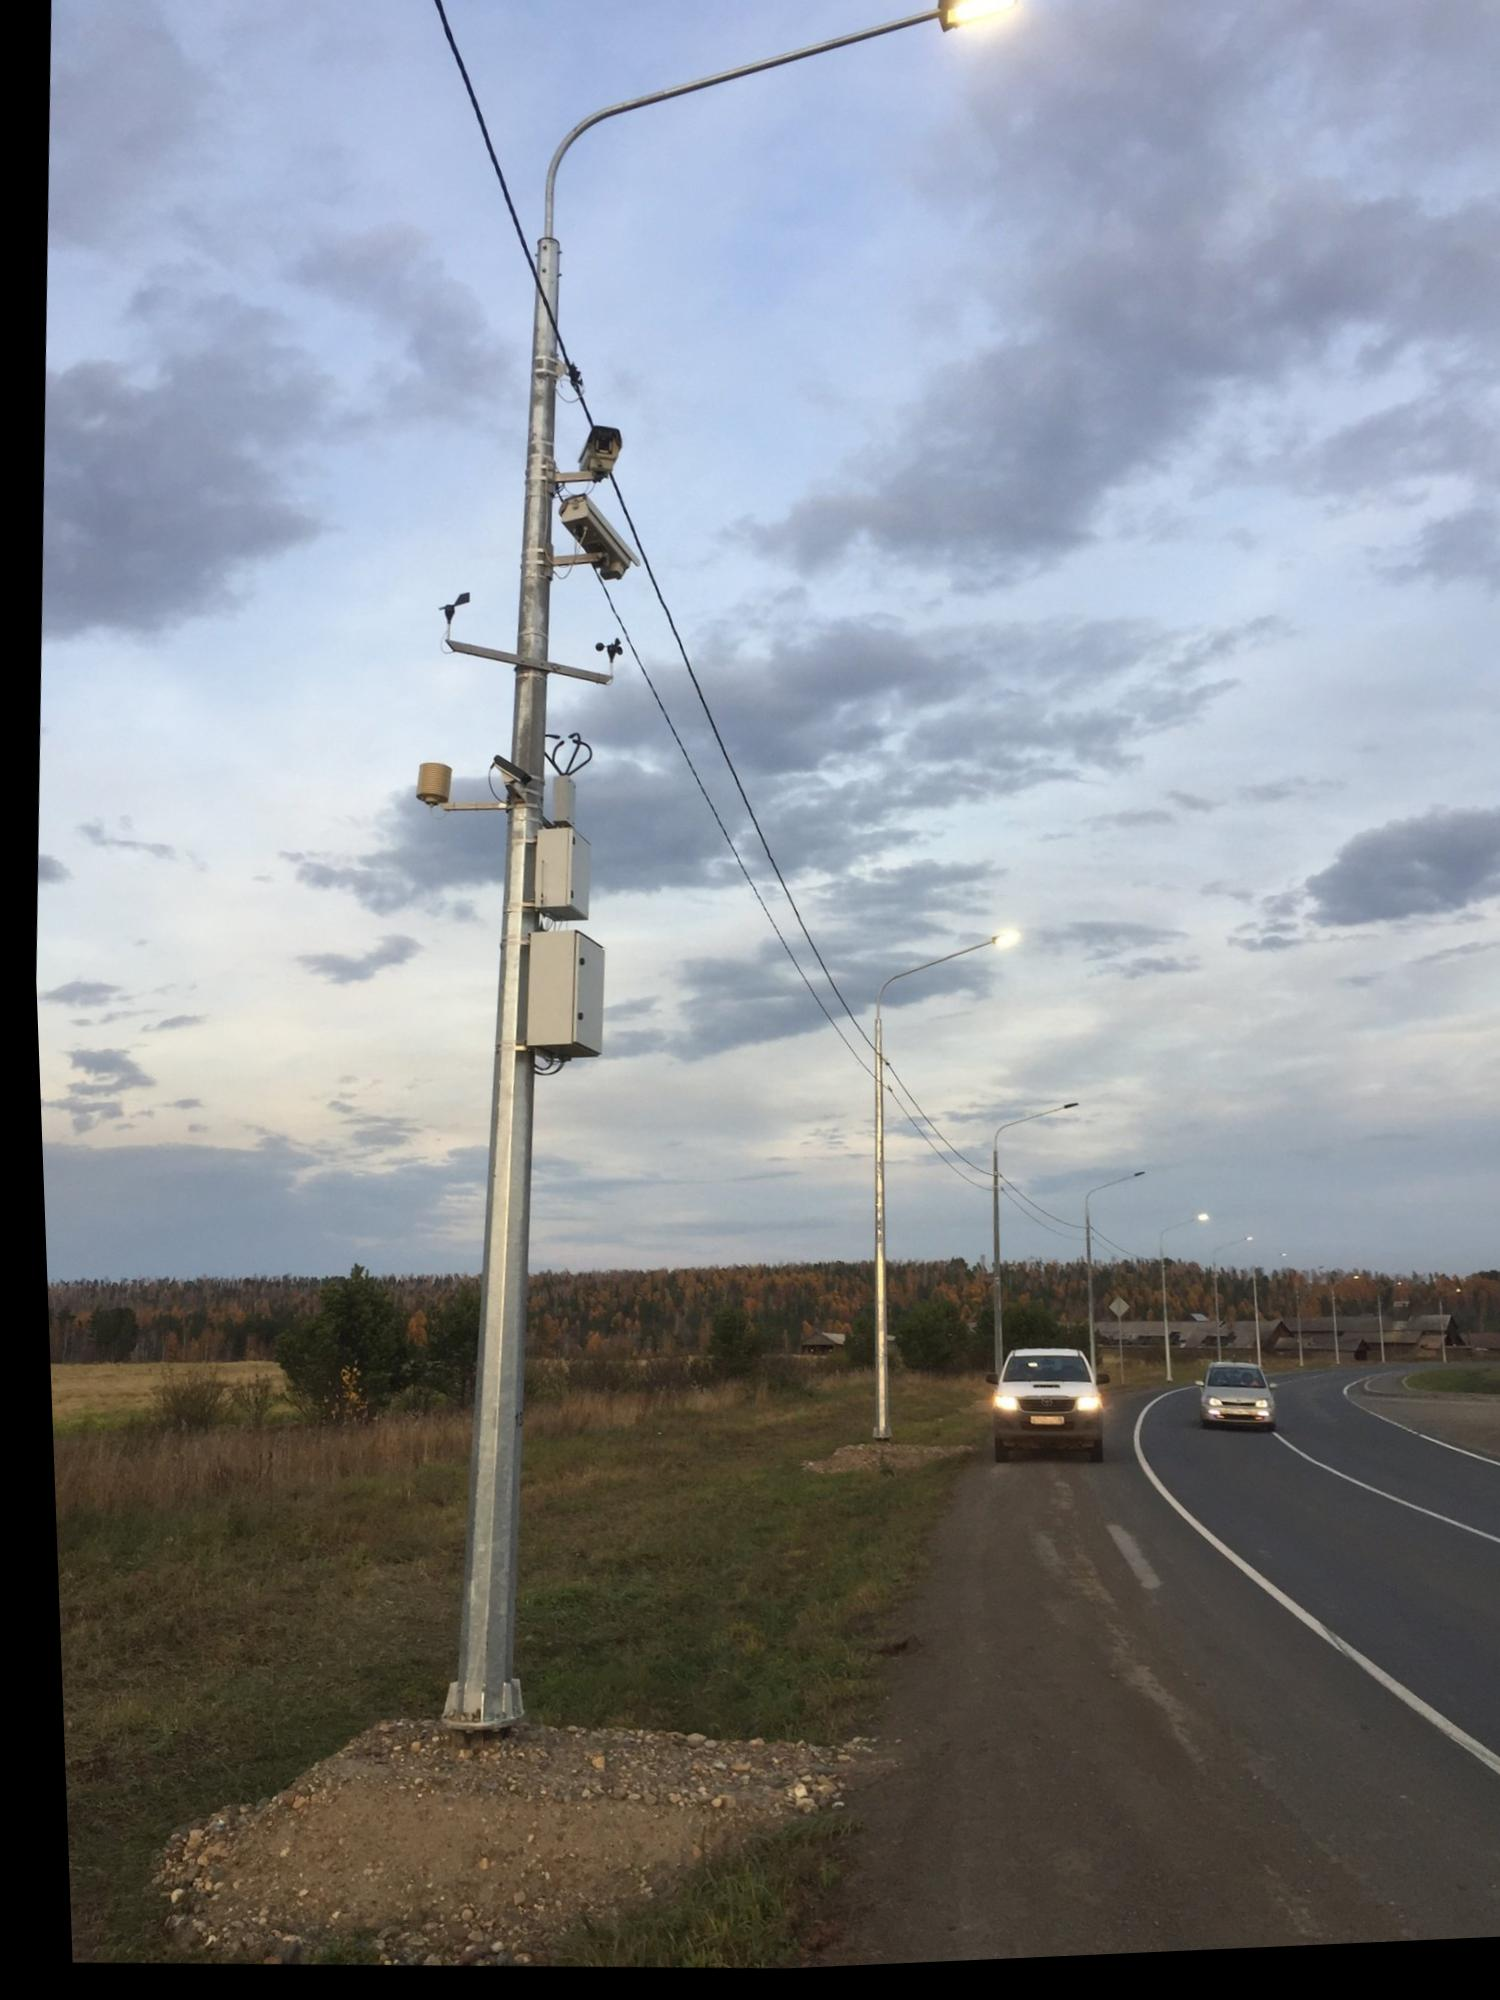Animal: (318, 0, 1054, 1843), (793, 995, 967, 1510)
